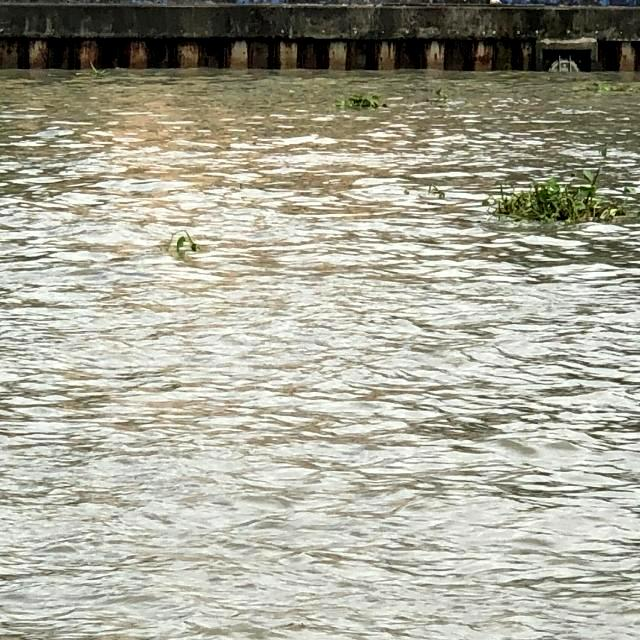water-hyacinth: (491, 166, 630, 226), (328, 88, 389, 115), (164, 228, 203, 255)
